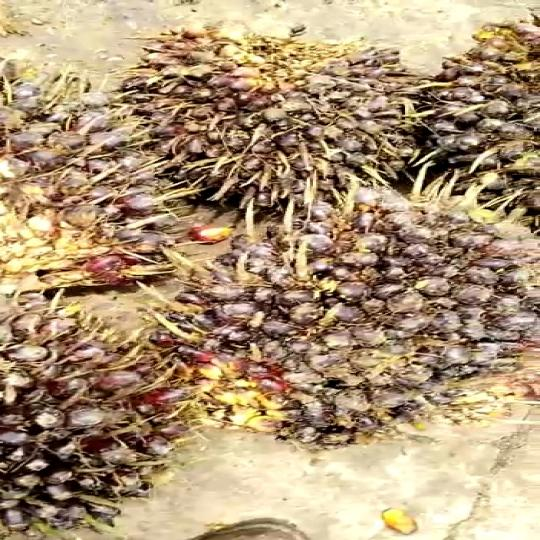mentah: (216, 174, 540, 460), (130, 29, 430, 207), (0, 280, 209, 527)
